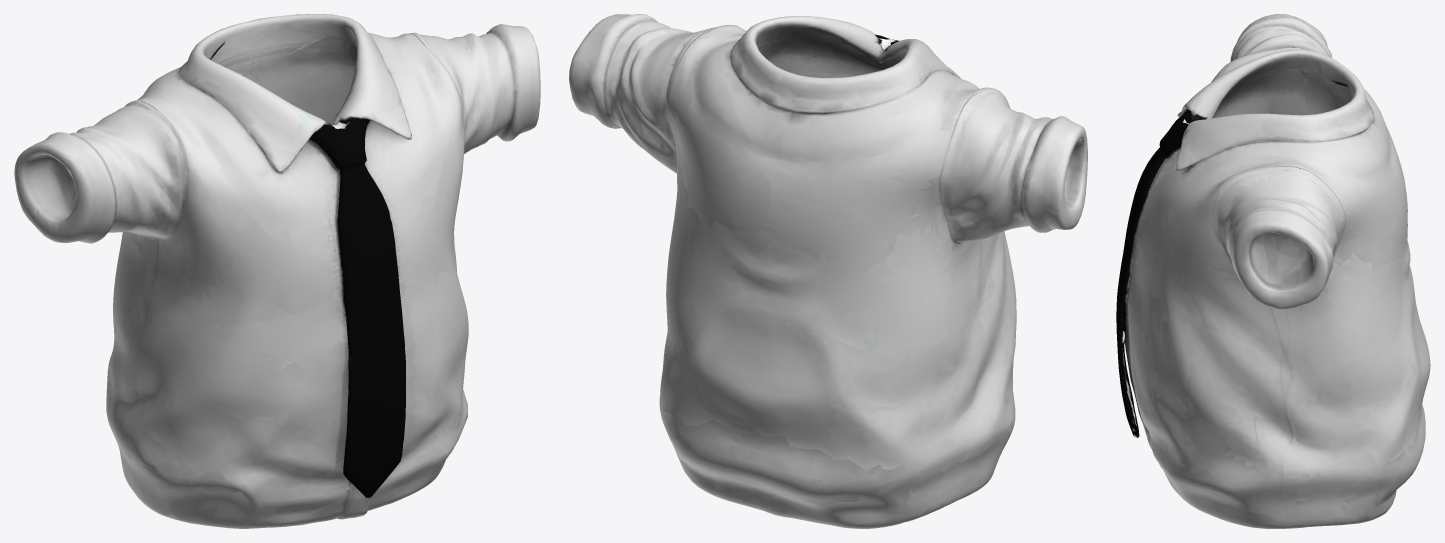
Rendered from Business.glb.
3 renders of one model, left to right at view 1: azimuth 30°, elevation 25°; view 2: azimuth 150°, elevation 25°; view 3: azimuth 270°, elevation 25°, orthographic. The views are drawn at different scales.
Parts seen in each view (by area): view 1: Business; view 2: Business; view 3: Business.
Part boxes in pixels (x1=…): Business: x1=14, y1=14, x2=540, y2=528; Business: x1=569, y1=14, x2=1087, y2=528; Business: x1=1116, y1=14, x2=1430, y2=528.
Bounding box in the file's own units: 0.5557 × 0.4739 × 0.3351.
1 material, 1 textured.
